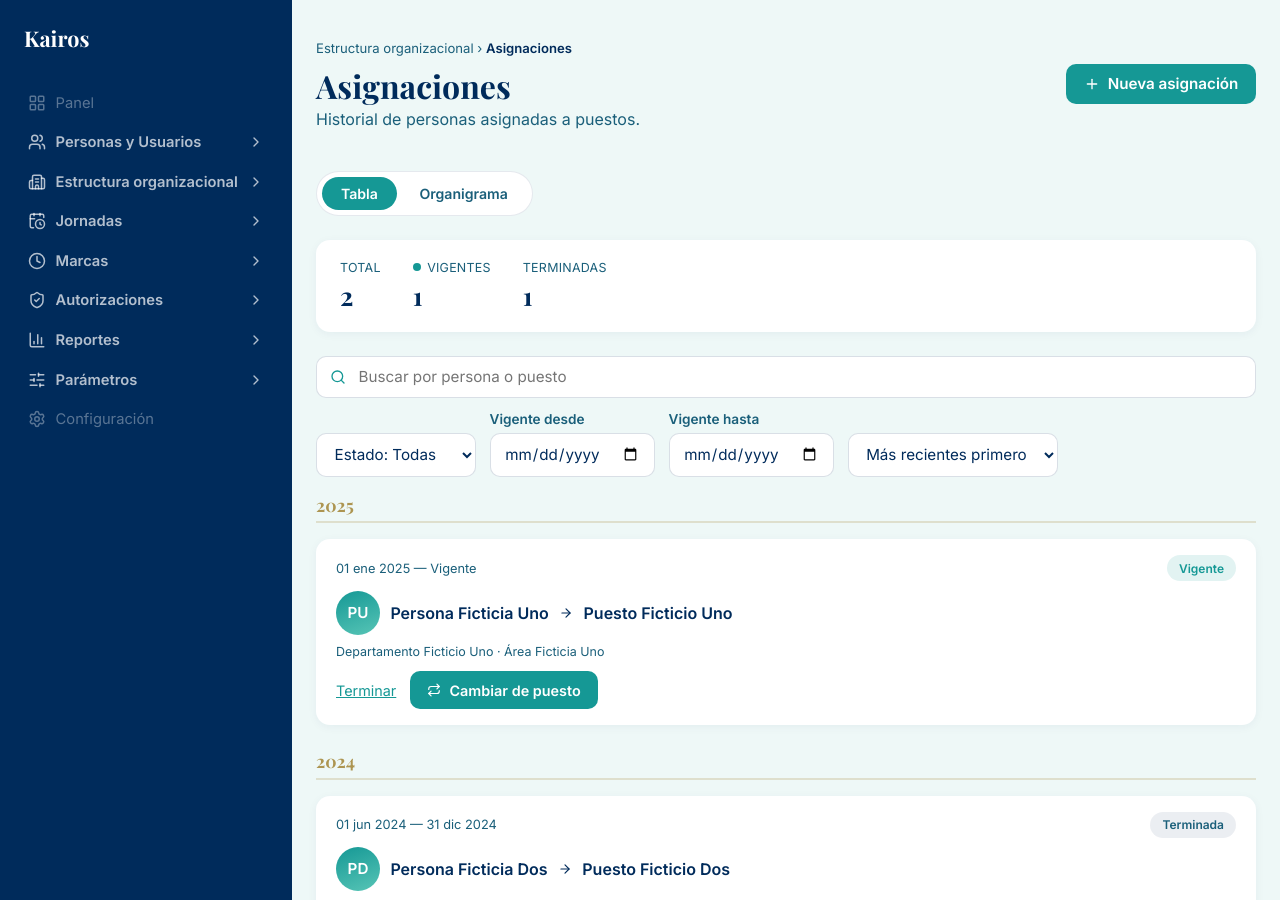
Test: AsignacionesPage › filtra por estado (vigente/terminada)
The width and height of the screenshot is (1280, 900).
expect the text "PU Persona Ficticia Uno Puesto Ficticio Uno" is shown: met, box [336,591,732,635]
Select "Terminadas" in the dropdown named "filtrar por estado" at (396, 455), box [316,433,476,477]
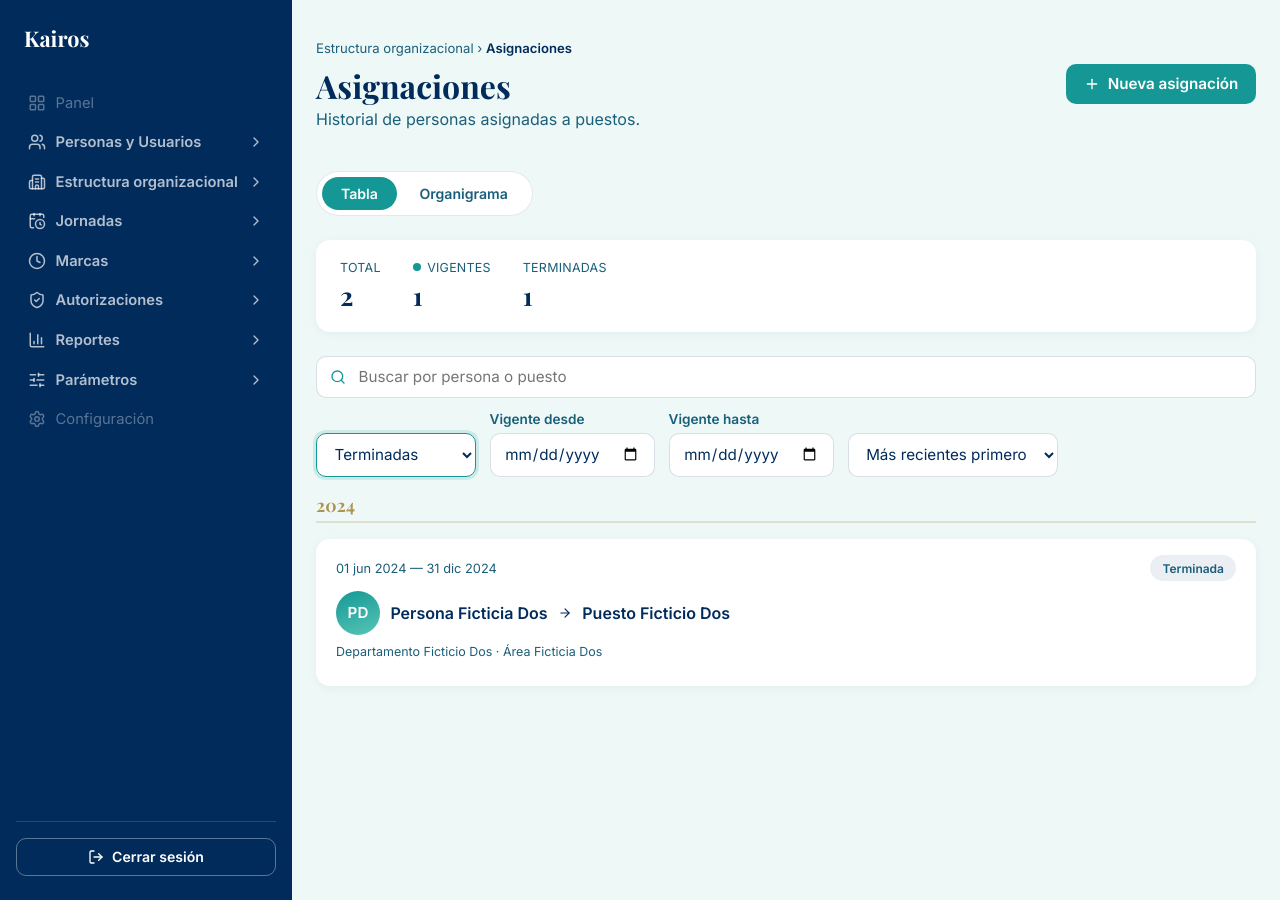
expect the text "PD Persona Ficticia Dos Puesto Ficticio Dos" is shown: met, box [336,591,730,635]
expect the text "Persona Ficticia Uno" is gone: met
